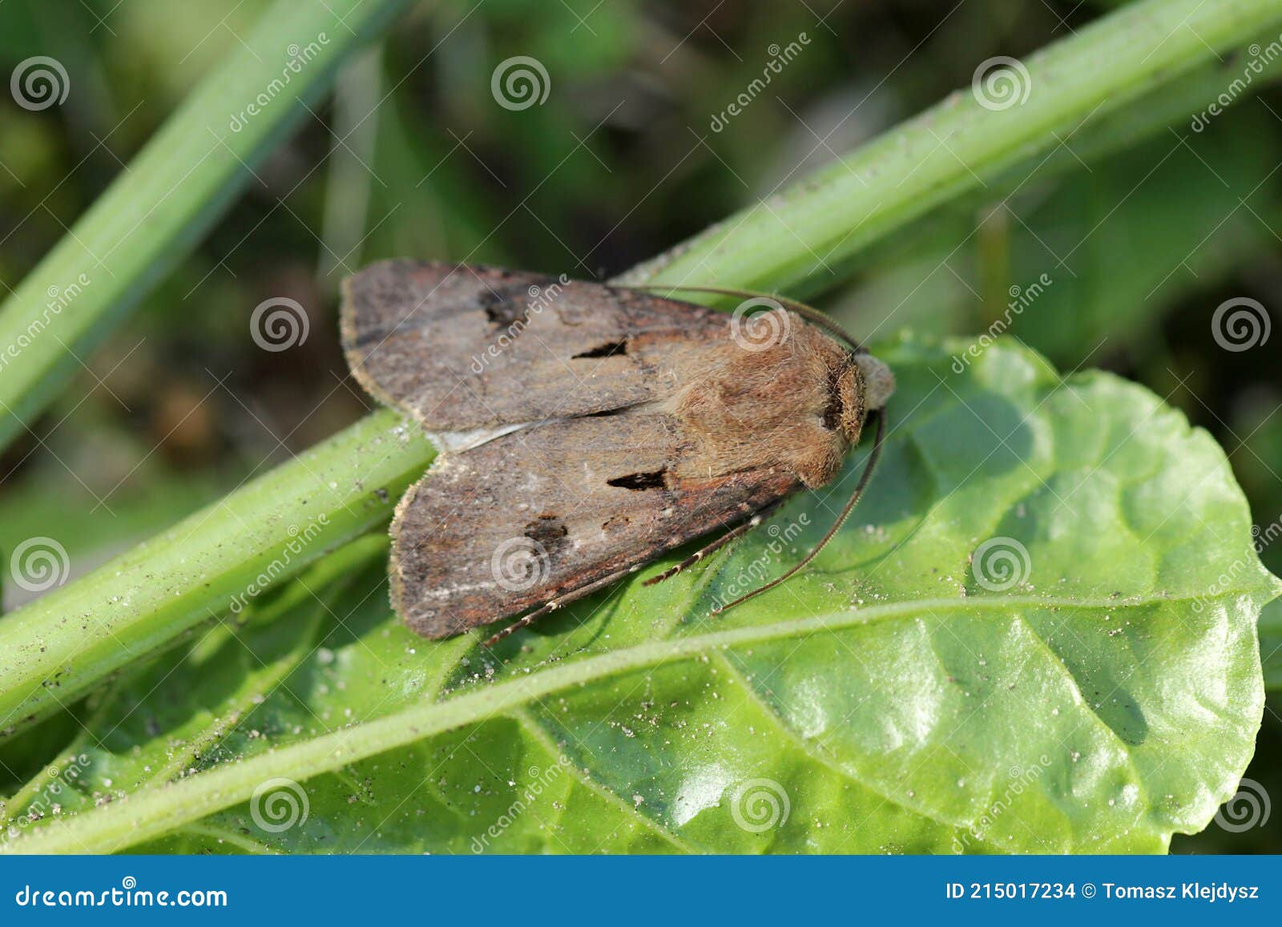Noctuidae: (335, 252, 886, 649)
